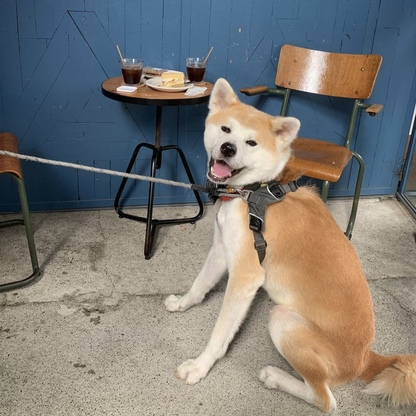akita: (155, 72, 416, 415)
